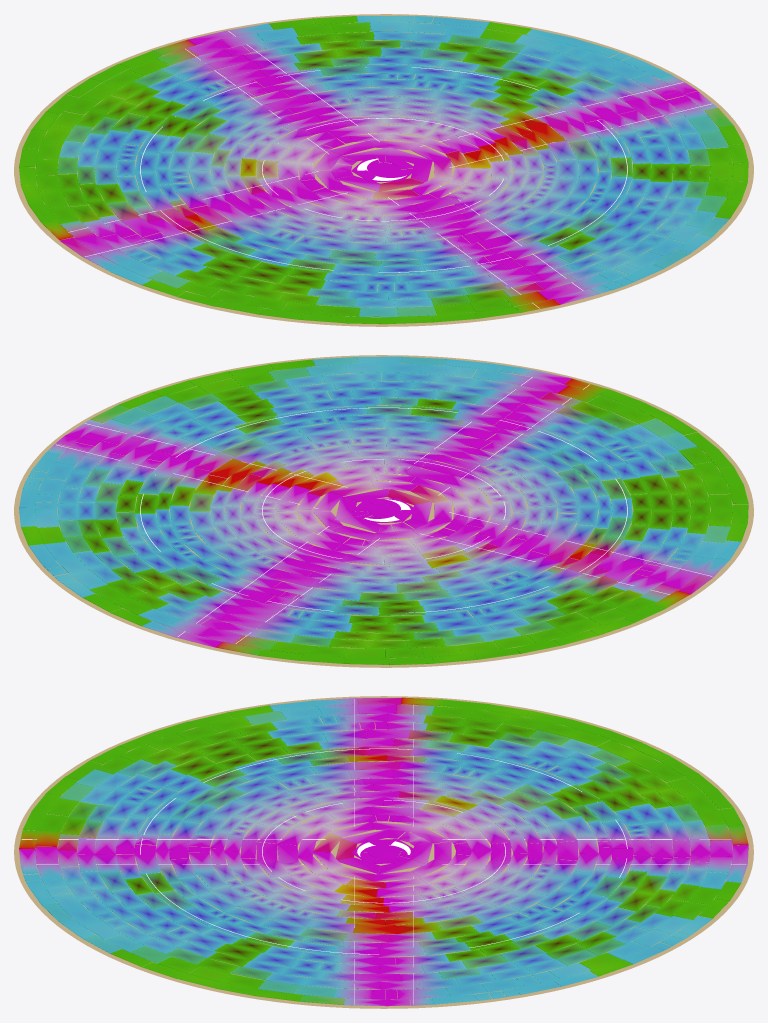
File: plaza-floor.glb
3 renders of one model, top to bottom at view 1: azimuth 30°, elevation 25°; view 2: azimuth 150°, elevation 25°; view 3: azimuth 270°, elevation 25°, orthographic.
Visible parts, largest first — view 1: plaza-floor, plaza-substrate, plaza-inlay; view 2: plaza-floor, plaza-substrate, plaza-inlay; view 3: plaza-floor, plaza-substrate, plaza-inlay.
Boxes of the visible parts, x1,y1,x2,y2 form: plaza-floor: [19, 15, 748, 324]; plaza-substrate: [14, 14, 753, 326]; plaza-inlay: [68, 31, 711, 308]; plaza-floor: [19, 356, 748, 665]; plaza-substrate: [14, 355, 753, 667]; plaza-inlay: [56, 377, 711, 643]; plaza-floor: [19, 697, 748, 1006]; plaza-substrate: [14, 696, 753, 1008]; plaza-inlay: [21, 699, 745, 1004].
Bounding box in the file's own units: 60.8 × 0.0899 × 60.8.
